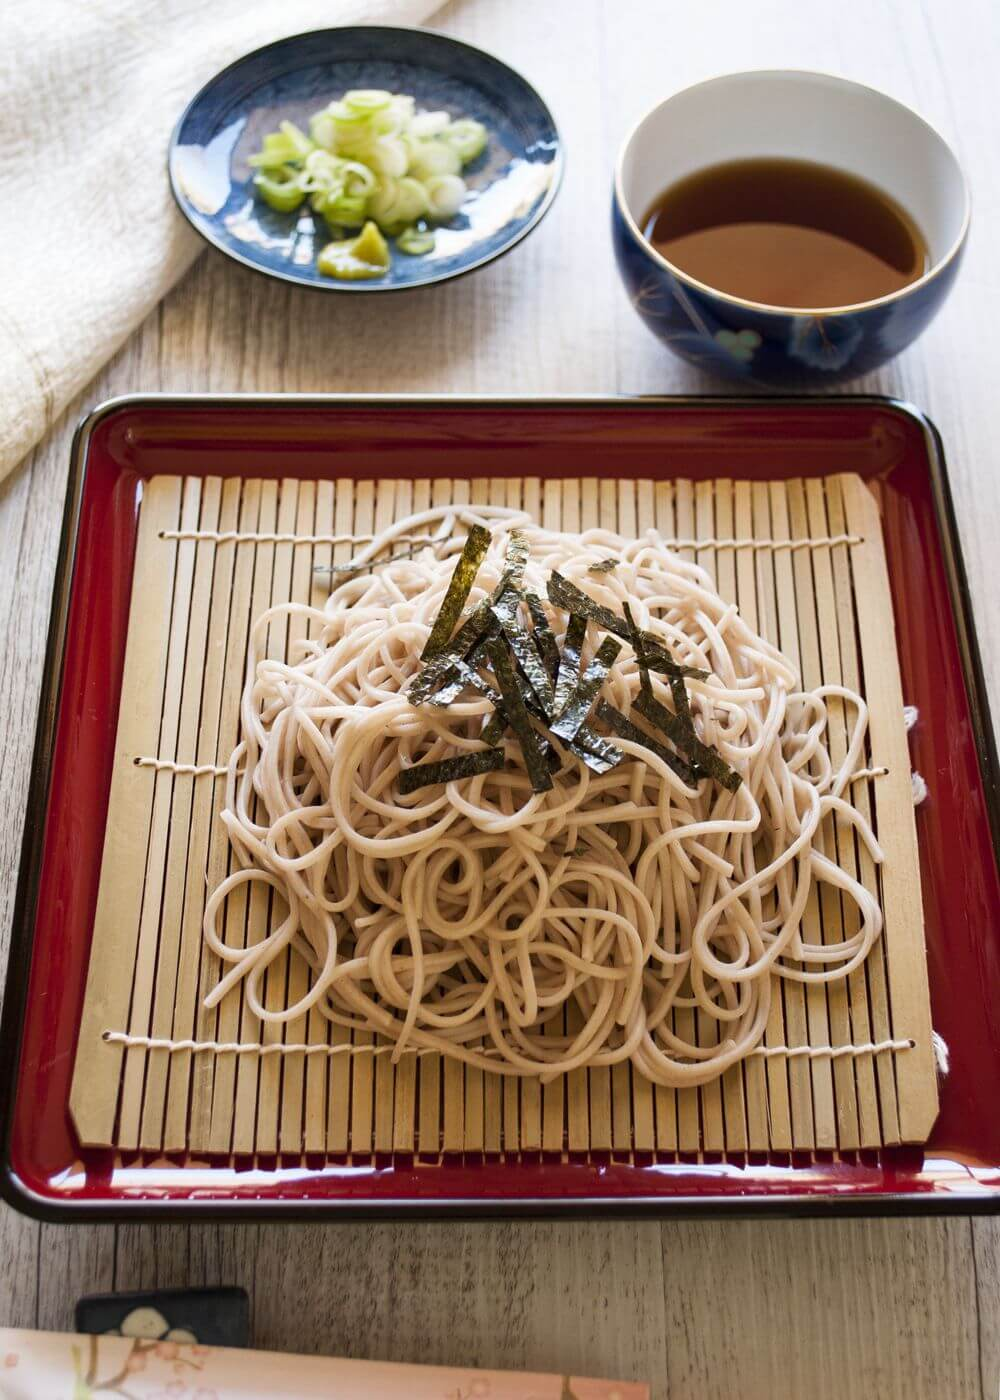Soba: (247, 513, 906, 1109)
